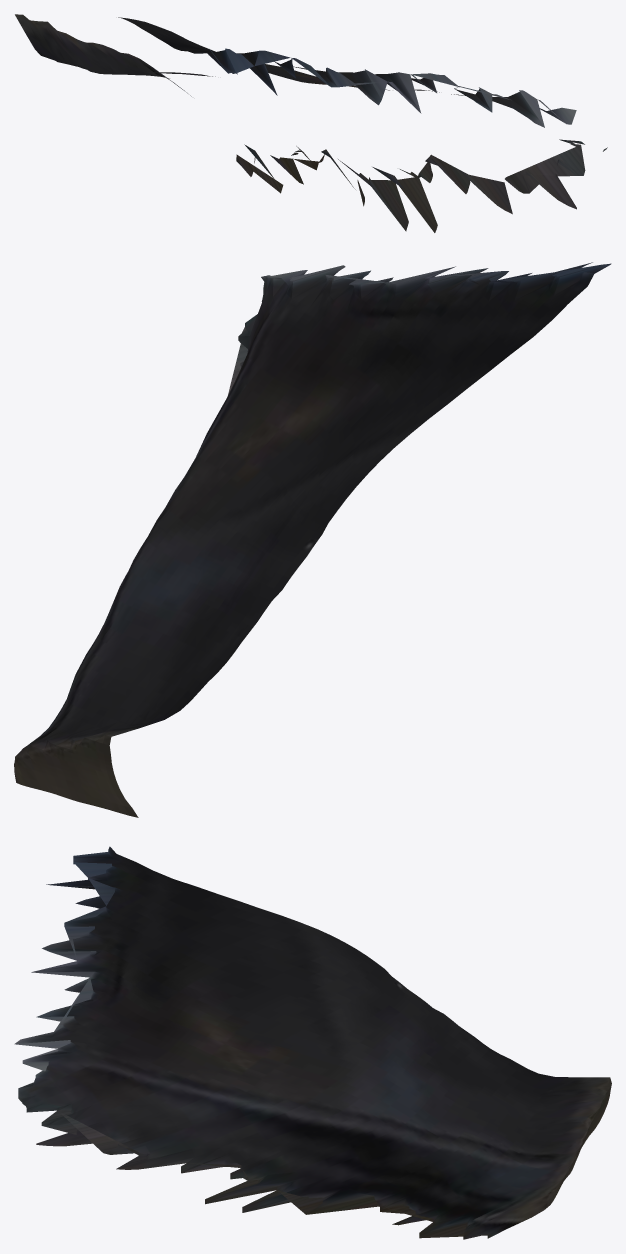
Rendered from observed-surface.glb.
3 renders of one model, top to bottom at view 1: azimuth 30°, elevation 25°; view 2: azimuth 150°, elevation 25°; view 3: azimuth 270°, elevation 25°, orthographic. The views are drawn at different scales.
Parts seen in each view (by area): view 1: geometry_0; view 2: geometry_0; view 3: geometry_0.
Boxes of the visible parts, bbox=[...] form: geometry_0: bbox=[15, 14, 607, 232]; geometry_0: bbox=[14, 262, 611, 817]; geometry_0: bbox=[14, 846, 611, 1239].
Size of the model in its own units: 0.4585 by 0.4367 by 0.8264.
Materials: 1 (1 with a texture image).
